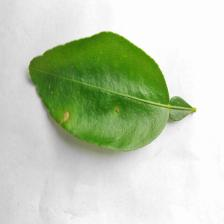greening: (51, 27, 181, 98)
